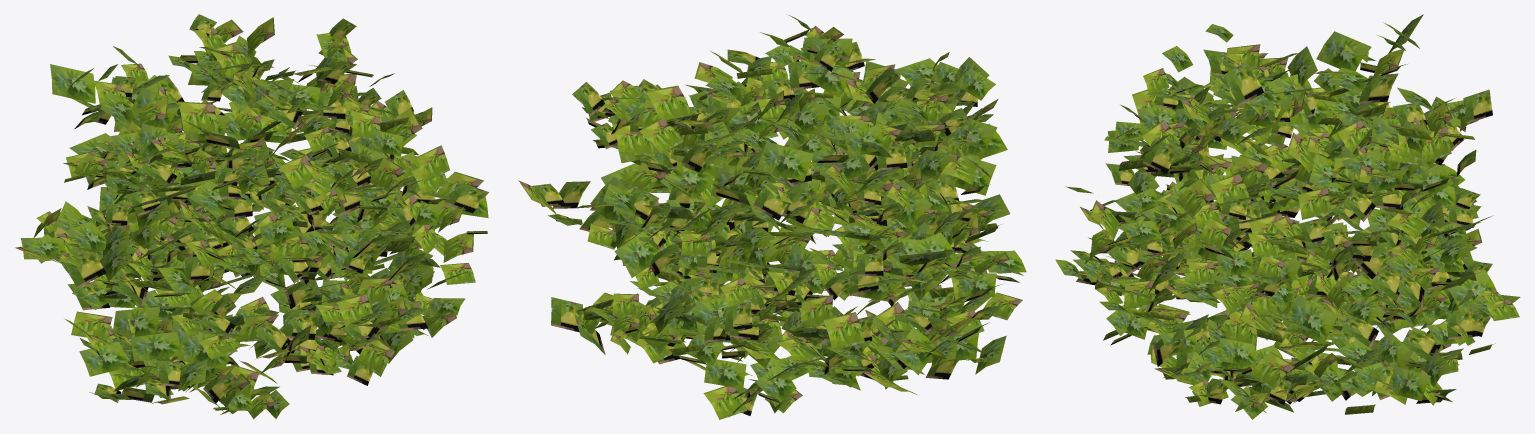
The model's file is leaf_1.fbx.
3 renders of one model, left to right at view 1: azimuth 30°, elevation 25°; view 2: azimuth 150°, elevation 25°; view 3: azimuth 270°, elevation 25°, orthographic. The views are drawn at different scales.
Parts seen in each view (by area): view 1: leaf_1; view 2: leaf_1; view 3: leaf_1.
Boxes of the visible parts, x1=… form: leaf_1: x1=15, y1=14, x2=489, y2=419; leaf_1: x1=518, y1=15, x2=1026, y2=419; leaf_1: x1=1055, y1=14, x2=1520, y2=419.
Size of what is drawn, in the model's own units: 5.29 by 3.76 by 4.99.
1 material, 1 textured.
